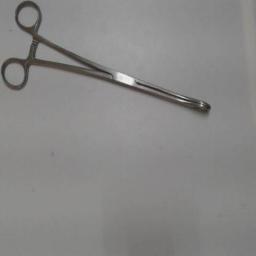Sponge Forceps: (0, 0, 216, 118)
